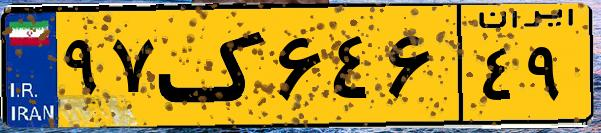4: (330, 28, 385, 110), (475, 38, 525, 113)
6: (270, 28, 330, 110), (385, 28, 445, 110)
7: (110, 28, 158, 98)
9: (57, 26, 110, 100), (525, 38, 570, 115)
ک: (158, 12, 270, 120)
